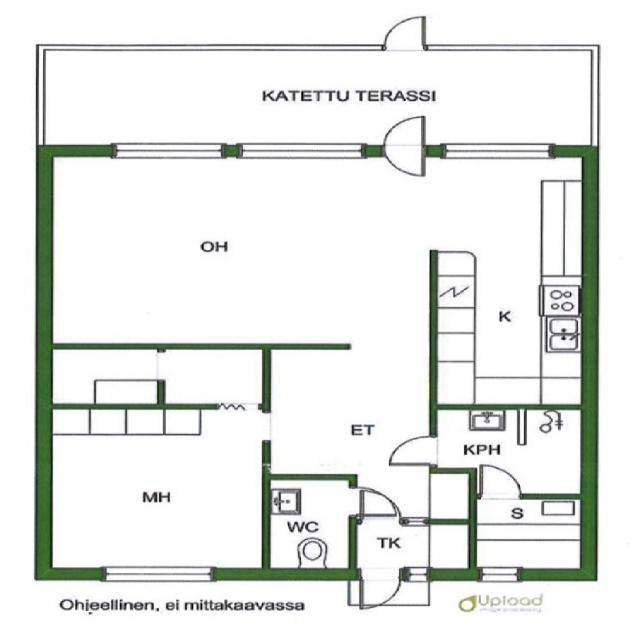door: (383, 144, 422, 183), (383, 117, 422, 155), (362, 568, 399, 606), (348, 486, 396, 514), (390, 436, 436, 465), (361, 491, 400, 524), (482, 468, 518, 499)
